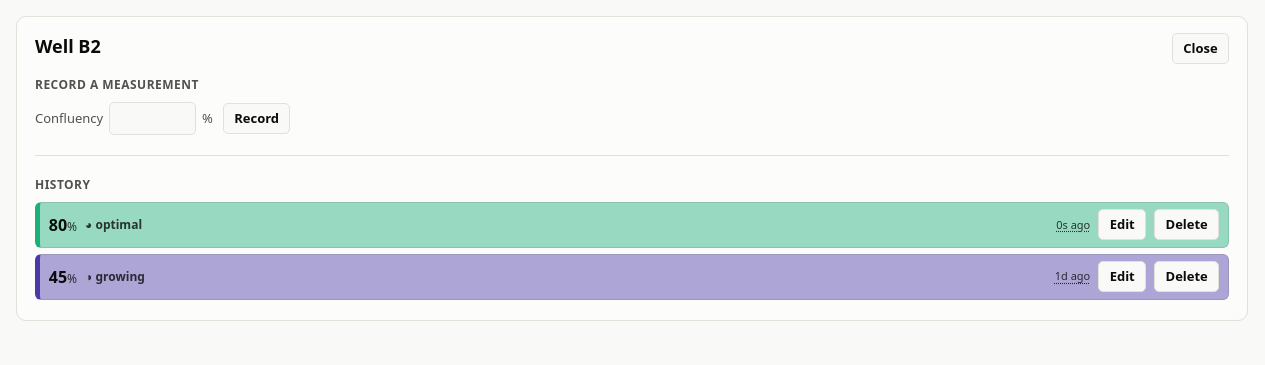
it: WellPanel — correcting a measurement › shows a 422 from a correction on the inline field
The image size is (1265, 365).
Expected: the text "80" is shown, [49,214,67,236]
Click the button "Edit" in the row of "80".
click(1122, 225)  # box [1098,209,1146,240]
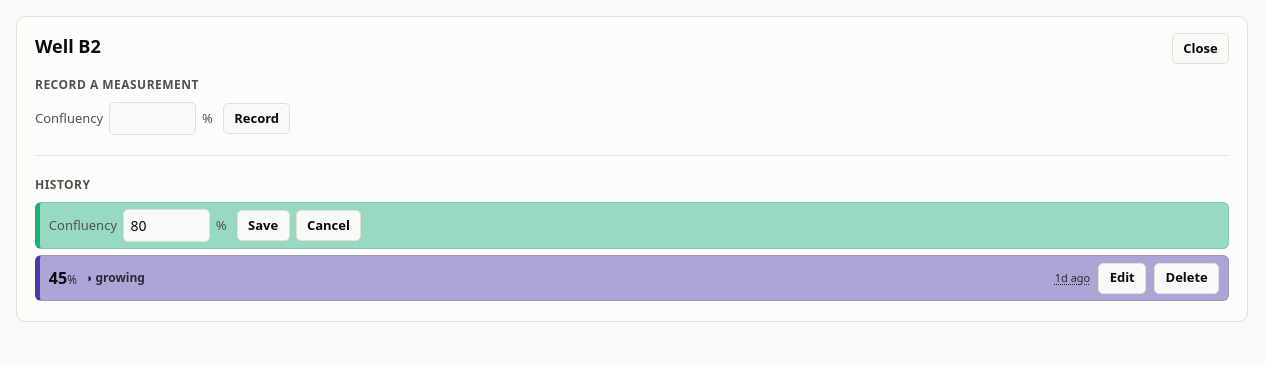
Click the button "Save".
click(263, 226)  # box [237,210,290,241]
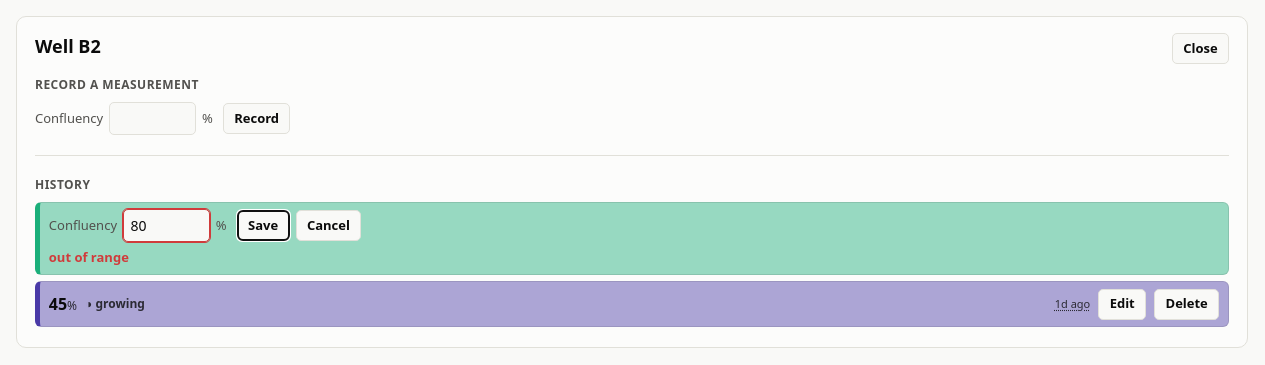
Expected: the button "Save" is shown, [237,210,290,241]
Expected: the text "out of range" is shown, [49,248,129,266]
